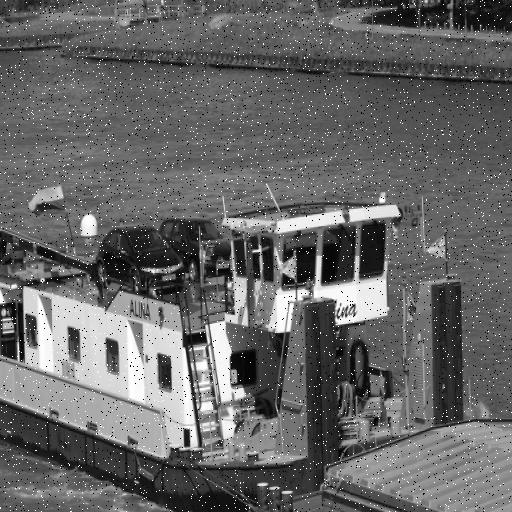tugboat: (1, 172, 471, 512)
